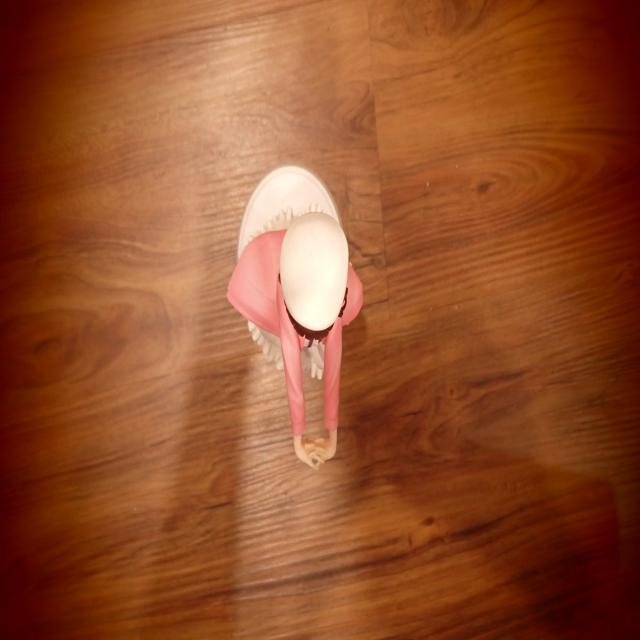My-pink-anime-figure: (228, 206, 362, 469)
